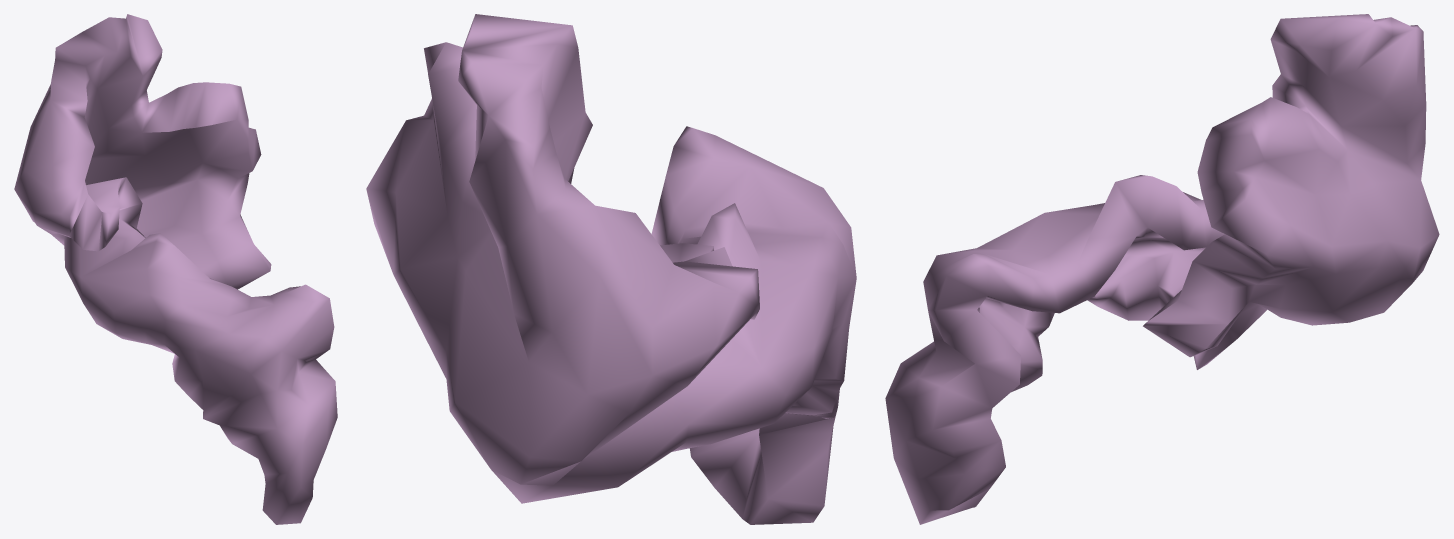
The picture shows the model from 3 angles, left to right: view 1: azimuth 30°, elevation 25°; view 2: azimuth 150°, elevation 25°; view 3: azimuth 270°, elevation 25°; orthographic projection. The views are drawn at different scales.
Visible parts, largest first — view 1: 右侧额下回岛盖部; view 2: 右侧额下回岛盖部; view 3: 右侧额下回岛盖部.
Boxes of the visible parts, bbox=[...] form: 右侧额下回岛盖部: bbox=[14, 14, 337, 524]; 右侧额下回岛盖部: bbox=[366, 14, 856, 524]; 右侧额下回岛盖部: bbox=[885, 14, 1439, 524].
Size of the model in its own units: 0.0333 by 0.0587 by 0.0579.
